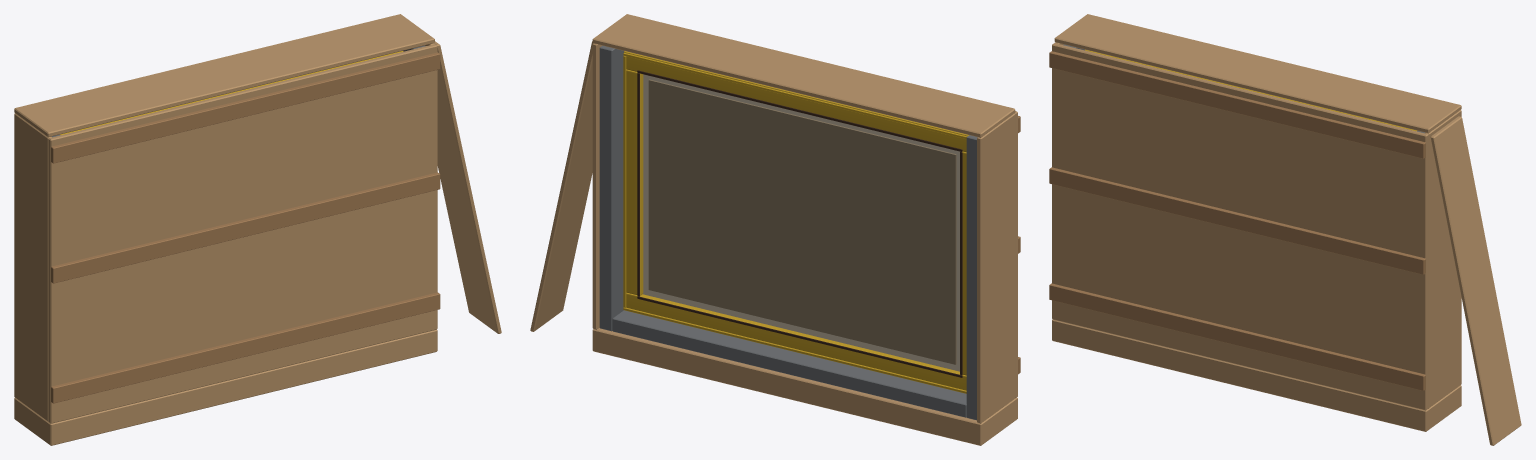
The model's file is prop_canvas_orchard_crate.glb.
The picture shows the model from 3 angles, left to right: view 1: azimuth 30°, elevation 25°; view 2: azimuth 150°, elevation 25°; view 3: azimuth 330°, elevation 25°; orthographic projection. The views are drawn at different scales.
Parts seen in each view (by area): view 1: Crate, Lid, Canvas; view 2: Paint, Crate, Canvas, Lid; view 3: Crate, Lid, Canvas.
Part boxes in pixels (bbox=[...]): Crate: bbox=[14, 14, 440, 445]; Lid: bbox=[434, 41, 501, 333]; Canvas: bbox=[60, 51, 403, 134]; Paint: bbox=[648, 79, 956, 364]; Crate: bbox=[592, 14, 1020, 445]; Canvas: bbox=[623, 51, 968, 393]; Lid: bbox=[530, 41, 593, 331]; Crate: bbox=[1049, 14, 1461, 431]; Lid: bbox=[1430, 116, 1521, 445]; Canvas: bbox=[1085, 49, 1416, 131].
Size of the model in its own units: 2.14 by 1.4 by 0.322.
